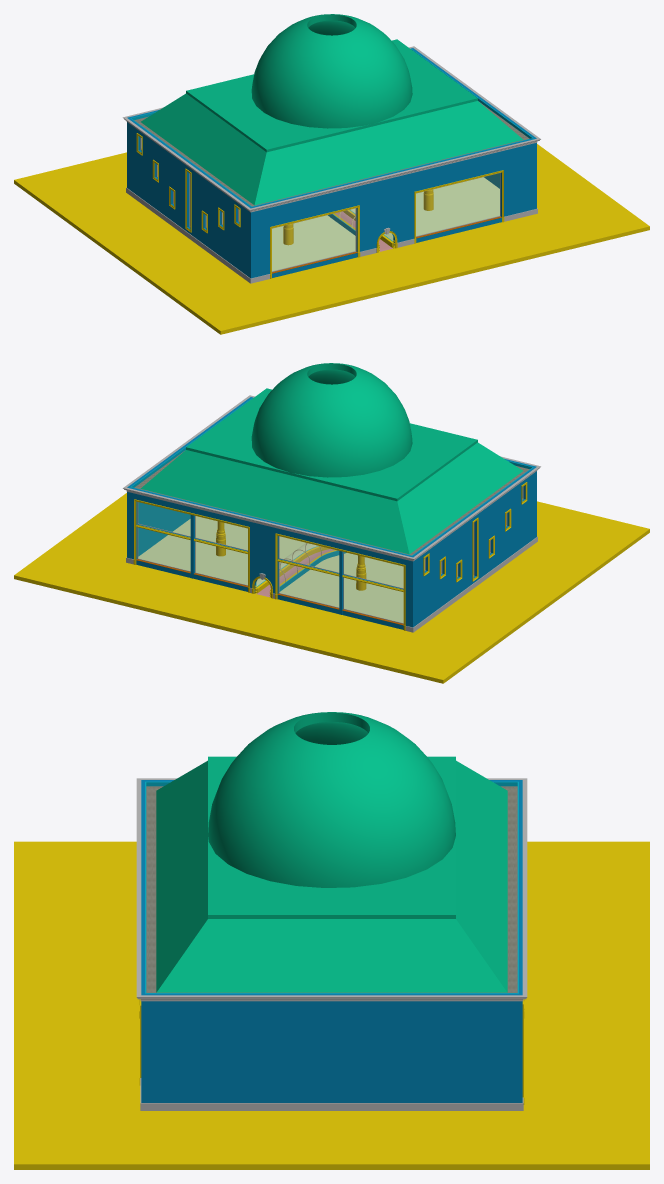
The model's file is building-volume.glb.
3 views of the same model, one above another, from view 1: azimuth 30°, elevation 25°; view 2: azimuth 150°, elevation 25°; view 3: azimuth 270°, elevation 25° (orthographic). The views are drawn at different scales.
Parts seen in each view (by area): view 1: Entity_FD.001, Entity_1067.001, Entity_6C6.001, Entity_6A0.001, Entity_694.001, Entity_264.001, Entity_27A.001, Entity_FEE.001, Entity_FF1.001, Entity_57B.001, Entity_CE3.001, Entity_68C.001 (+2 smaller); view 2: Entity_FD.001, Entity_6C6.001, Entity_1067.001, Entity_6A0.001, Entity_694.001, Entity_FF1.001, Entity_FEE.001, Entity_57B.001, Entity_CE3.001, Entity_350.001, Entity_354.001, Entity_32F.001 (+9 smaller); view 3: Entity_FD.001, Entity_1067.001, Entity_6C6.001, Entity_6A0.001, Entity_694.001, Entity_57B.001, Entity_68C.001, Entity_686.001, Entity_CE3.001.
Boxes of the visible parts, x1,y1,x2,y2 form: Entity_FD.001: (14,144,649,334); Entity_1067.001: (127,48,536,278); Entity_6C6.001: (141,93,523,205); Entity_6A0.001: (251,14,412,128); Entity_694.001: (186,39,477,152); Entity_264.001: (272,209,355,270); Entity_27A.001: (416,174,499,235); Entity_FEE.001: (351,177,499,240); Entity_FF1.001: (206,210,355,271); Entity_57B.001: (123,46,540,212); Entity_CE3.001: (130,49,533,240); Entity_68C.001: (134,102,529,206); Entity_FD.001: (14,493,649,683); Entity_6C6.001: (140,442,522,554); Entity_1067.001: (127,397,536,629); Entity_6A0.001: (251,363,412,477); Entity_694.001: (186,388,477,501); Entity_FF1.001: (279,553,457,622); Entity_FEE.001: (138,516,317,586); Entity_57B.001: (123,395,540,561); Entity_CE3.001: (130,398,533,585); Entity_350.001: (279,563,338,606); Entity_354.001: (344,578,402,622); Entity_32F.001: (138,528,189,570); Entity_FD.001: (14,841,649,1169); Entity_1067.001: (141,780,522,1102); Entity_6C6.001: (156,760,507,992); Entity_6A0.001: (208,712,455,887); Entity_694.001: (208,756,455,918); Entity_57B.001: (136,778,527,1001); Entity_68C.001: (146,786,517,992); Entity_686.001: (140,1078,523,1110); Entity_CE3.001: (145,781,518,993).
Bounding box in the file's own units: 60 × 24.28 × 50.
12 materials, 1 textured.
